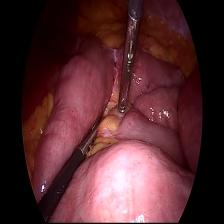Grasper: (118, 9, 144, 114), (80, 114, 106, 158)
